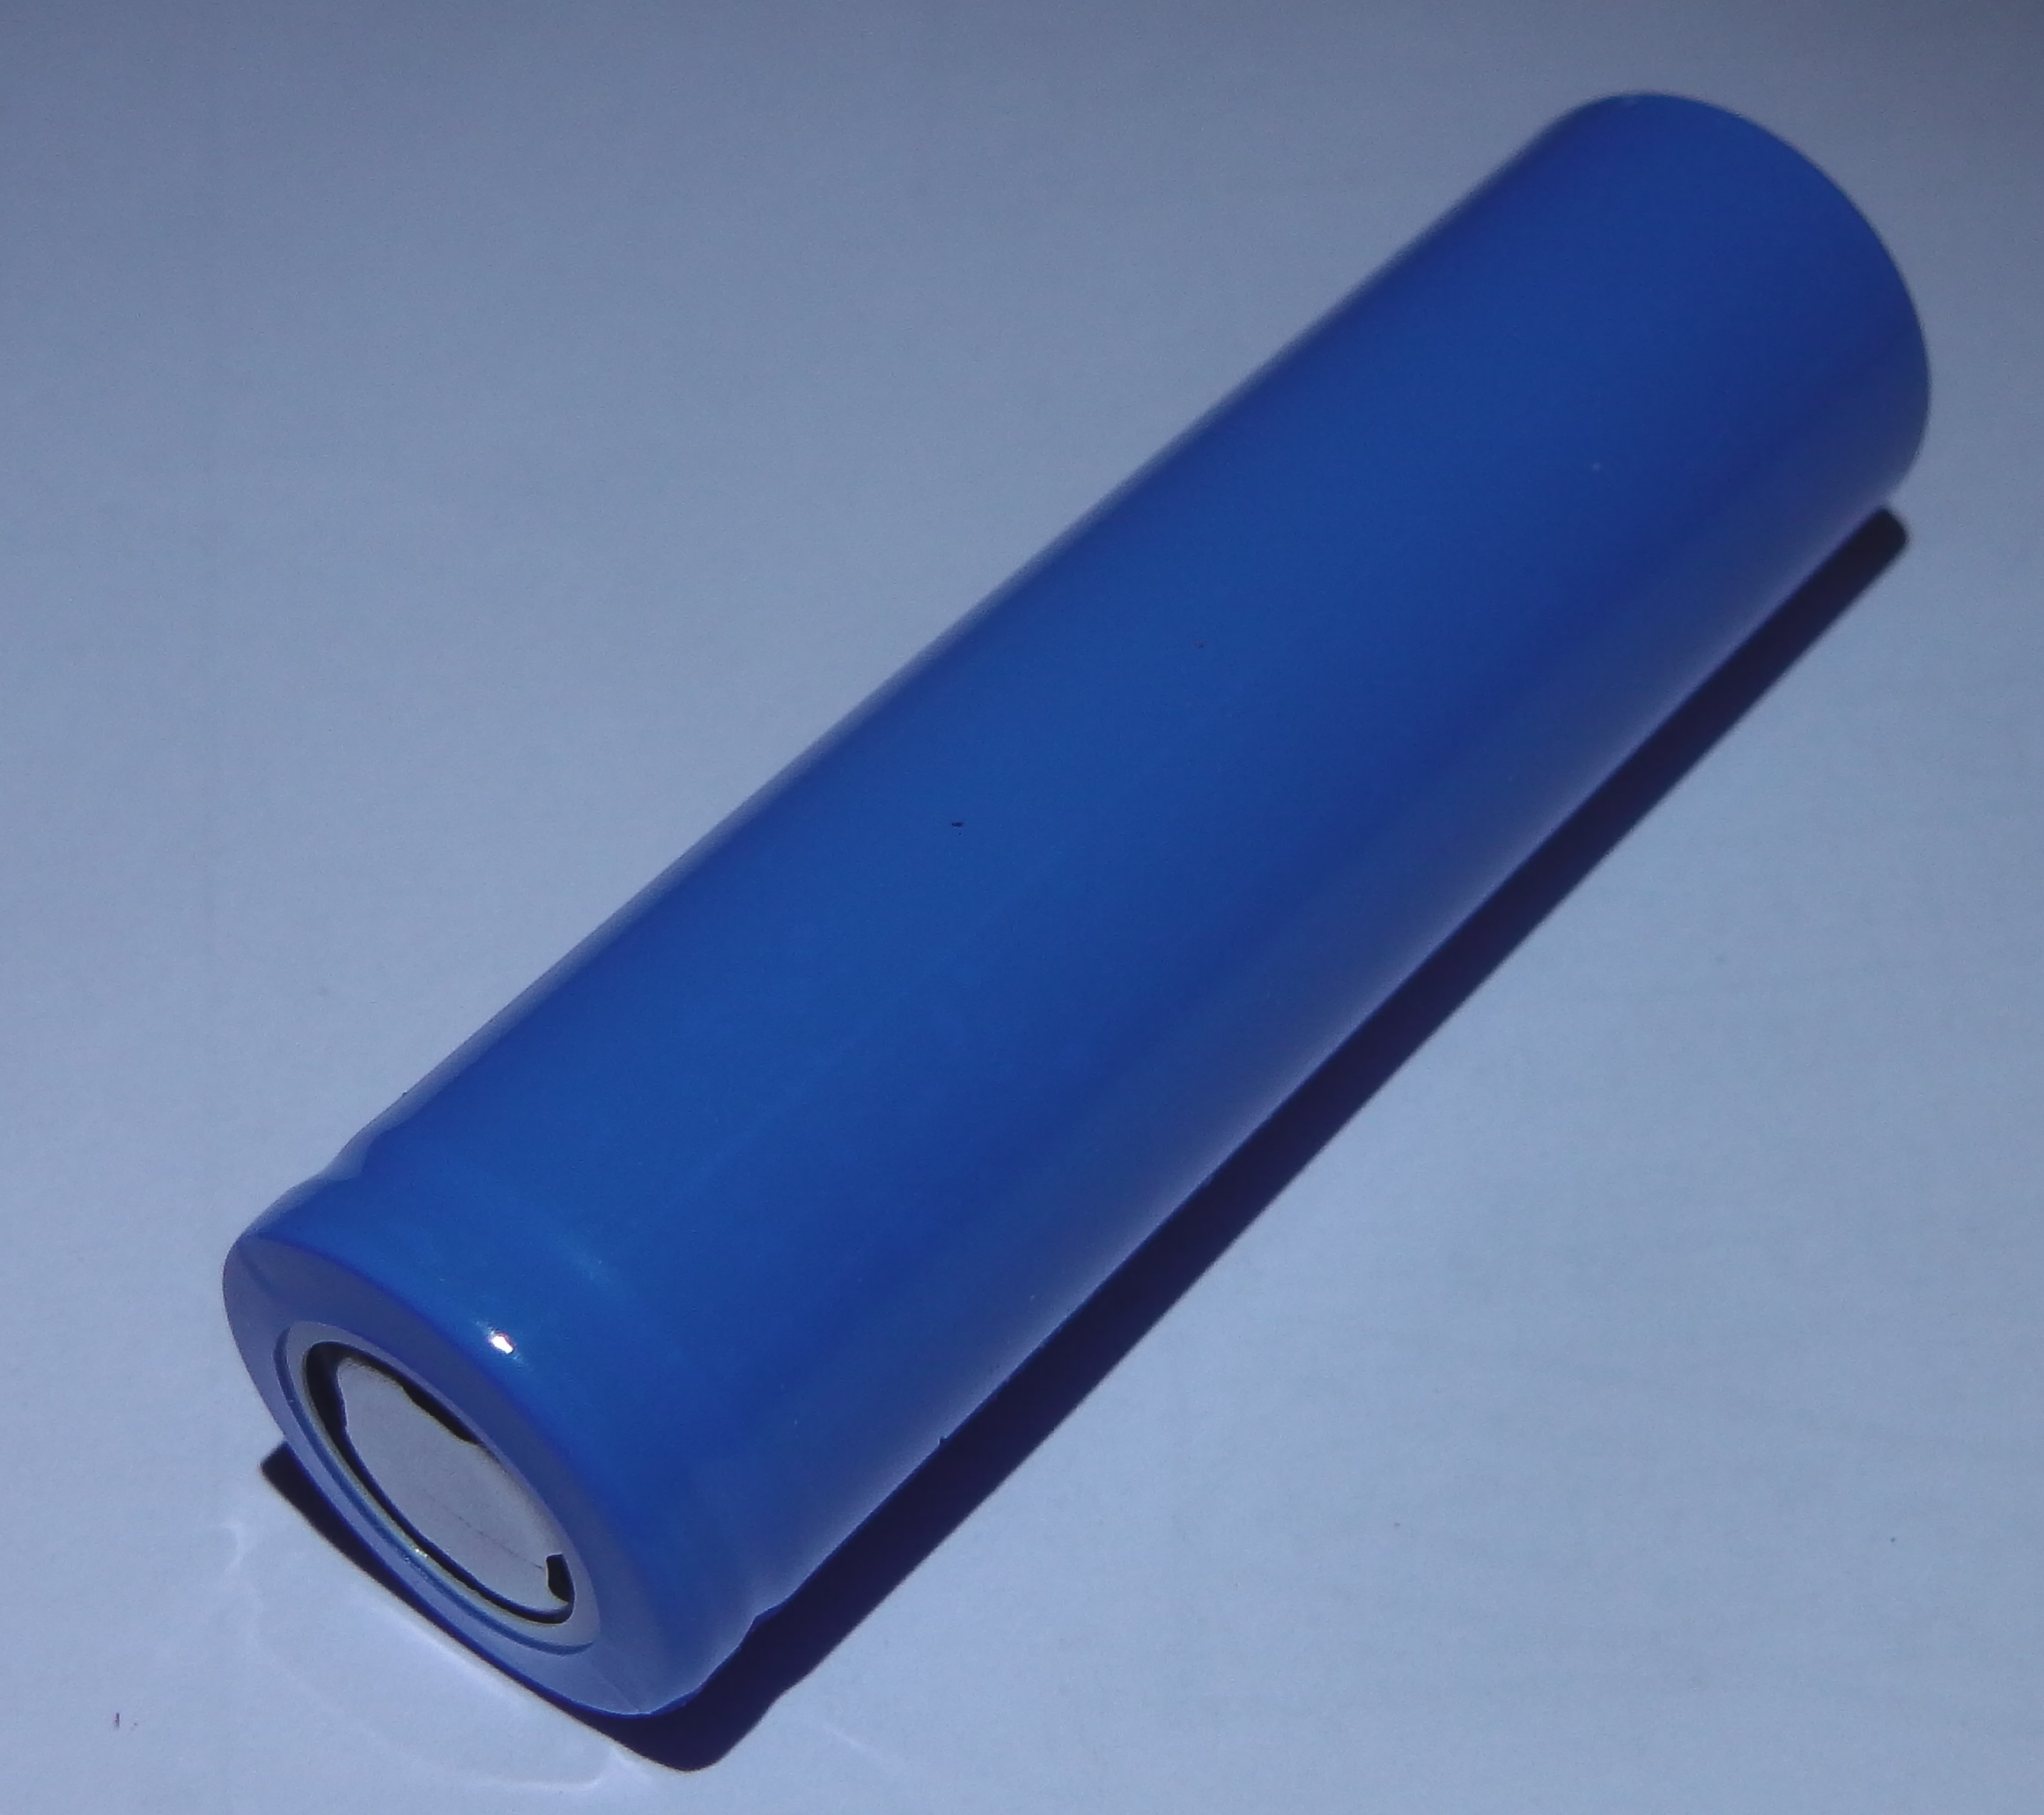Battery: (205, 84, 1941, 1726)
